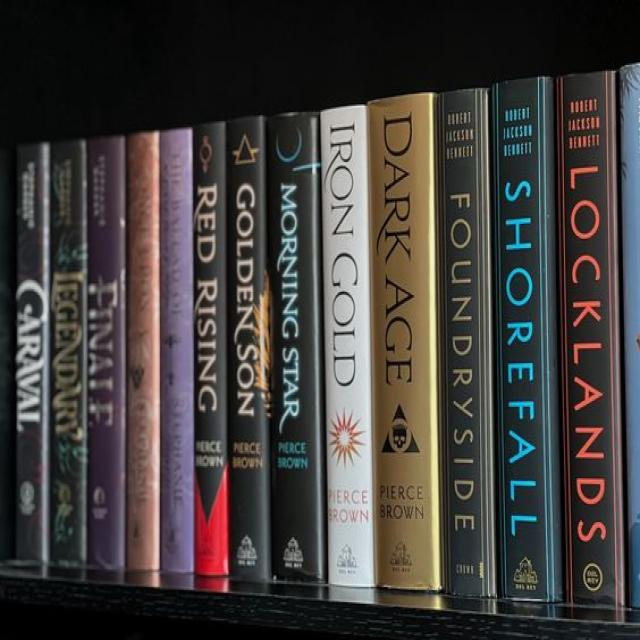book: (556, 70, 623, 608), (491, 77, 559, 605), (369, 91, 439, 589), (437, 85, 497, 597), (320, 104, 374, 588), (267, 113, 322, 581), (227, 114, 270, 578), (85, 134, 126, 568), (192, 121, 229, 576), (49, 140, 86, 566), (125, 130, 160, 570), (159, 126, 193, 575), (17, 144, 49, 560)
